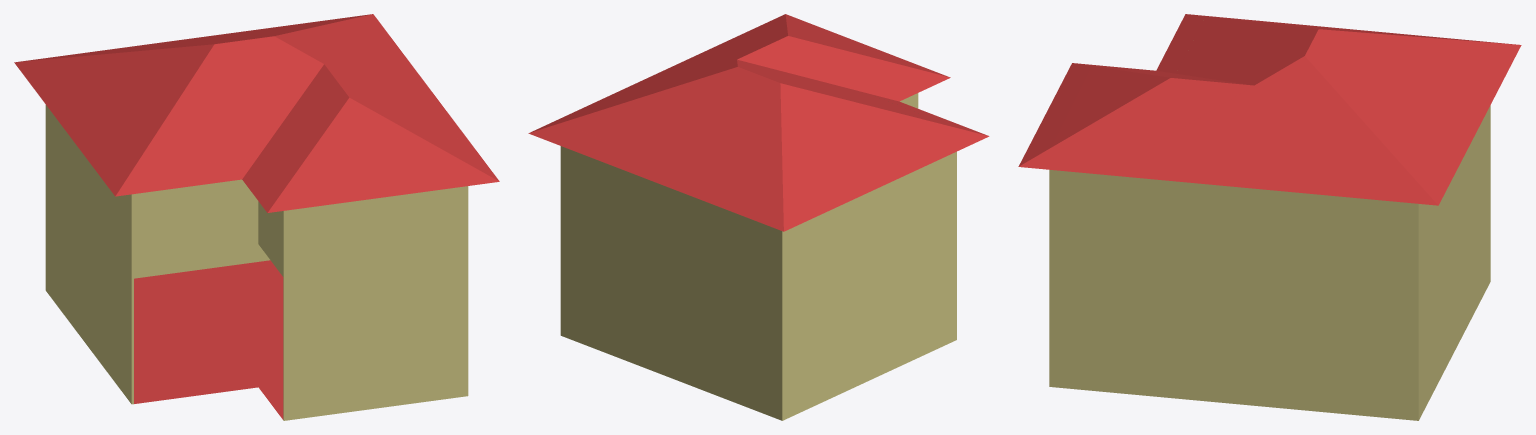
3 views of the same model, side by side, from view 1: azimuth 30°, elevation 25°; view 2: azimuth 150°, elevation 25°; view 3: azimuth 270°, elevation 25° (orthographic). The views are drawn at different scales.
Size of the model in its own units: 13.09 by 14.52 by 9.41.
